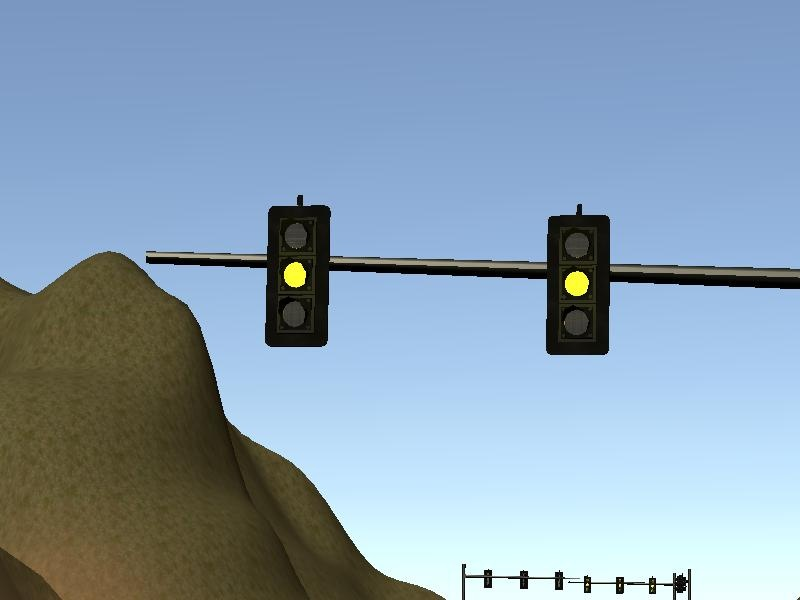YELLOW: (262, 196, 332, 347), (542, 207, 612, 358)
